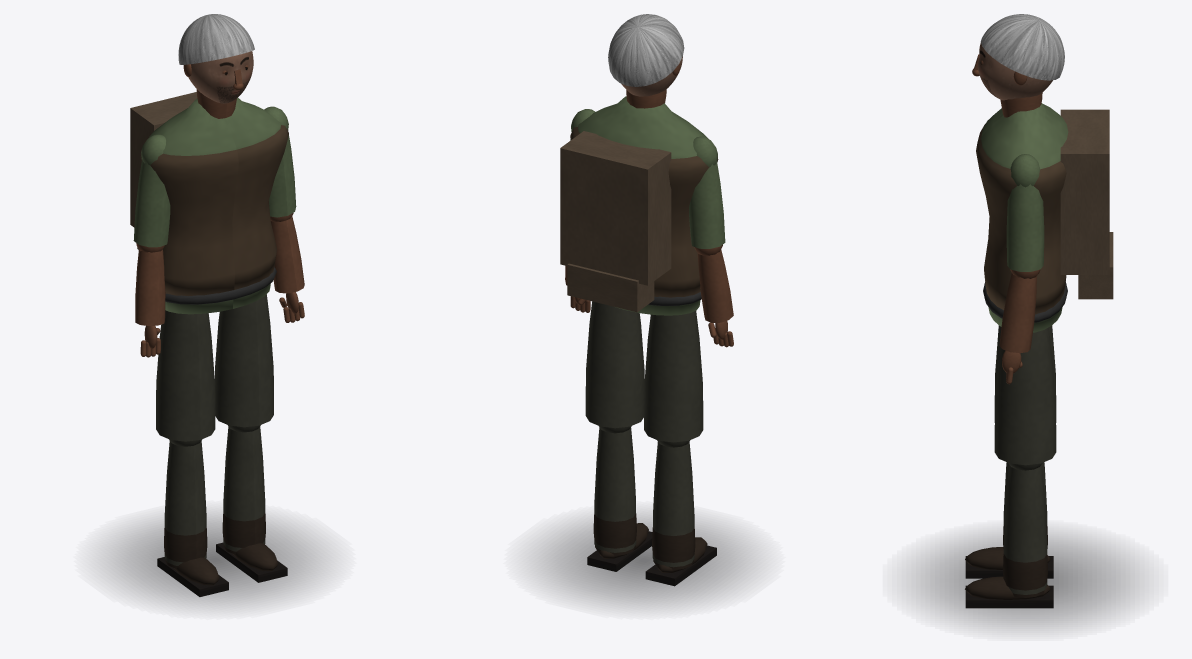
Rendered from npc_jory.glb.
The picture shows the model from 3 angles, left to right: view 1: azimuth 30°, elevation 25°; view 2: azimuth 150°, elevation 25°; view 3: azimuth 270°, elevation 25°; orthographic projection. The views are drawn at different scales.
Visible parts, largest first — view 1: chest, object 11, legL, legR, shinL, shinR, head, armL, foreL, foreR, armR; view 2: chest, object 11, legL, legR, shinL, shinR, head, armL, foreL; view 3: chest, object 11, shinR, legR, head, armR, foreR, shinL, legL.
Boxes of the visible parts, left/top/right/bottom form: chest: left=130, top=89, right=288, bottom=314; object 11: left=102, top=512, right=327, bottom=607; legL: left=156, top=310, right=215, bottom=441; legR: left=214, top=294, right=273, bottom=427; shinL: left=157, top=439, right=228, bottom=596; shinR: left=216, top=425, right=287, bottom=582; head: left=178, top=14, right=254, bottom=103; armL: left=133, top=134, right=170, bottom=247; foreL: left=135, top=243, right=165, bottom=357; foreR: left=270, top=213, right=304, bottom=322; armR: left=264, top=106, right=296, bottom=217; chest: left=560, top=89, right=718, bottom=315; object 11: left=532, top=513, right=756, bottom=607; legL: left=644, top=311, right=703, bottom=442; legR: left=585, top=301, right=644, bottom=428; shinL: left=645, top=440, right=716, bottom=586; shinR: left=587, top=426, right=652, bottom=571; head: left=608, top=14, right=684, bottom=96; armL: left=689, top=136, right=725, bottom=248; foreL: left=694, top=244, right=733, bottom=347; chest: left=976, top=92, right=1113, bottom=332; object 11: left=911, top=532, right=1139, bottom=628; shinR: left=965, top=463, right=1053, bottom=608; legR: left=994, top=327, right=1056, bottom=465; head: left=972, top=14, right=1064, bottom=100; armR: left=1006, top=154, right=1044, bottom=271; foreR: left=999, top=269, right=1040, bottom=384; shinL: left=965, top=462, right=1053, bottom=578; legL: left=994, top=325, right=1056, bottom=422.
Size of the model in its own units: 0.868 by 1.79 by 0.868.
6 materials, 5 textured.
